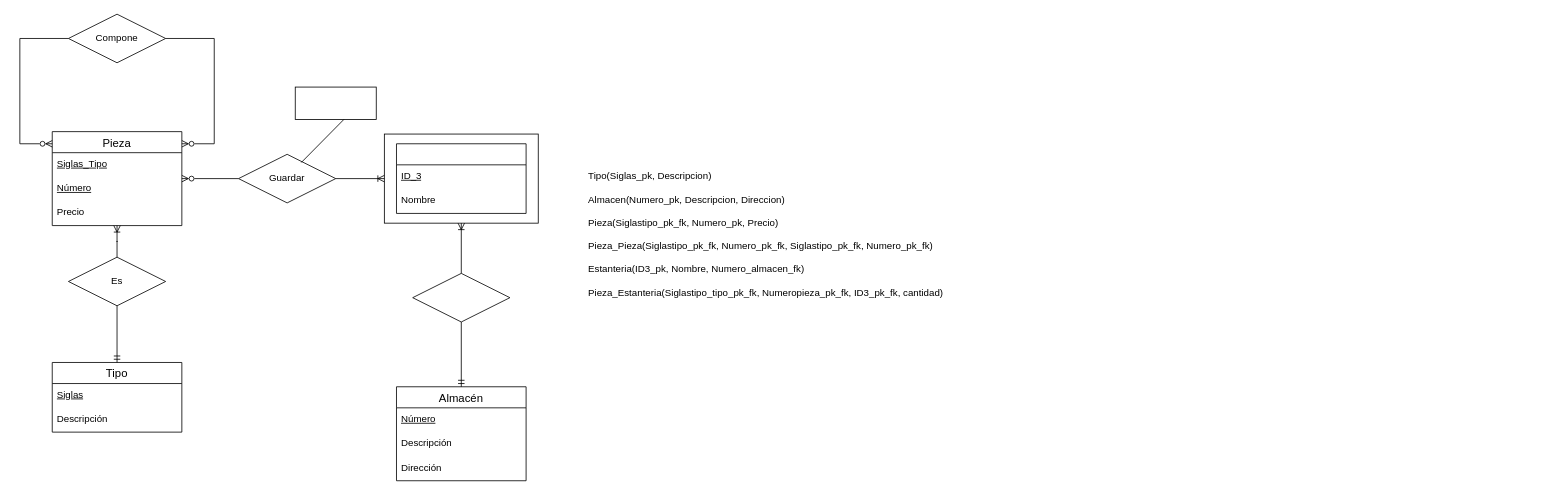
Image size: 1565x497. Some labels were removed from this diagram. The box of each missing label's shape, as (x1, y1, x2, y2) in pixels:
Cantidad: (294, 86, 376, 119)
Estantería: (396, 143, 526, 213)
Tiene: (412, 273, 510, 322)
